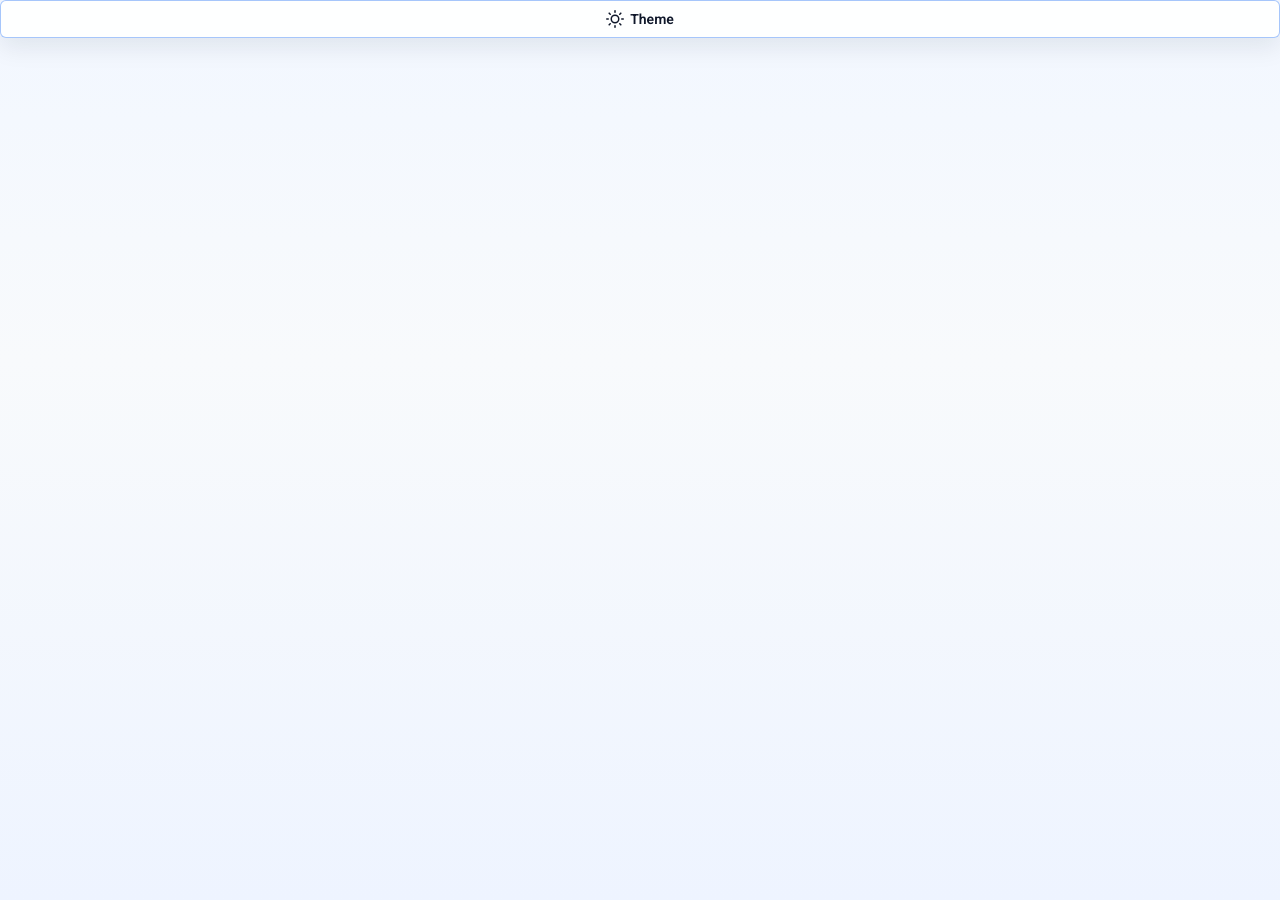
Test: ThemeSwitcher › cycles from light to dark on click
Click the button with aria-label "Theme:" at (640, 19), box [0,0,1279,38]
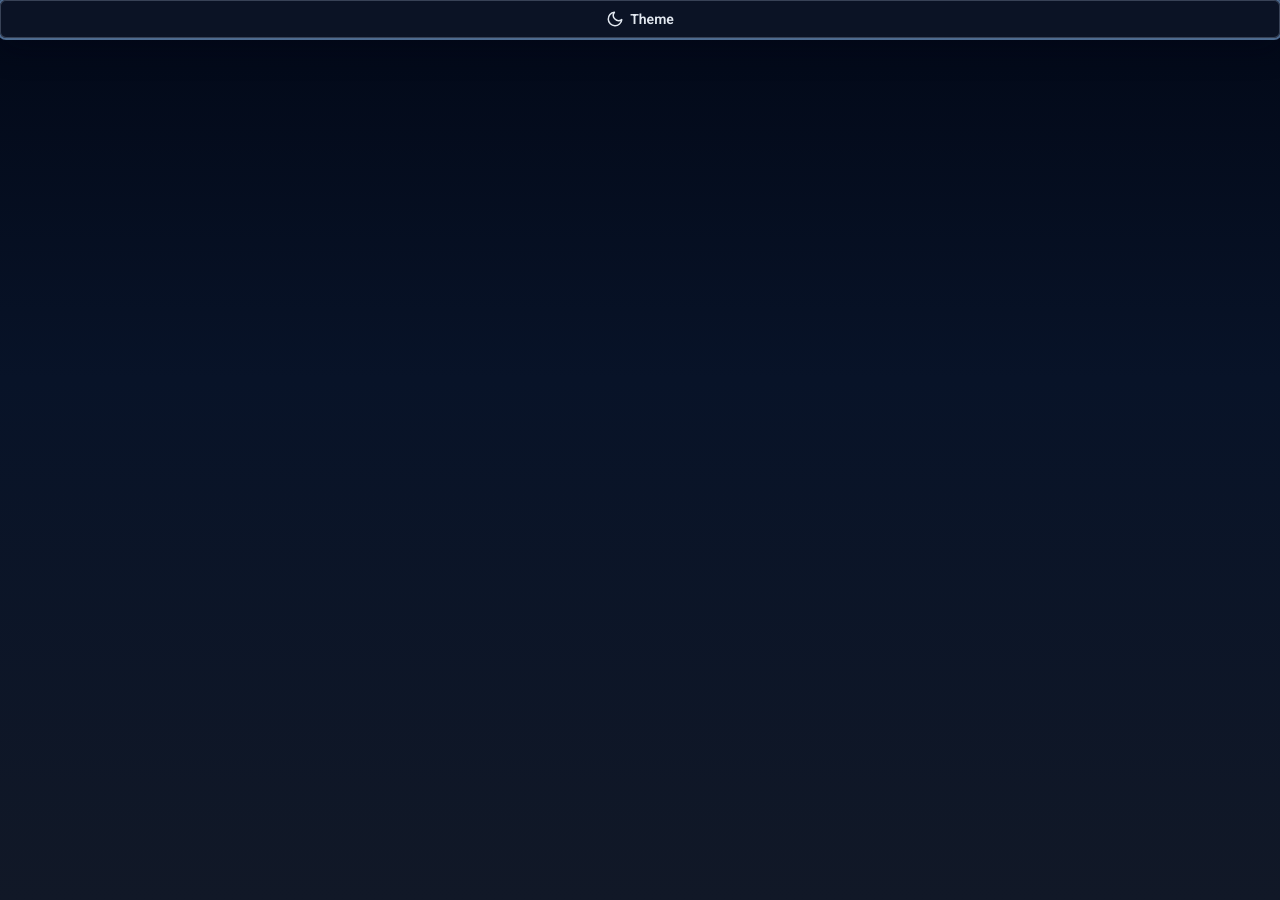
Expected: the button with aria-label "Theme: Dark" is shown, [0,0,1279,38]
